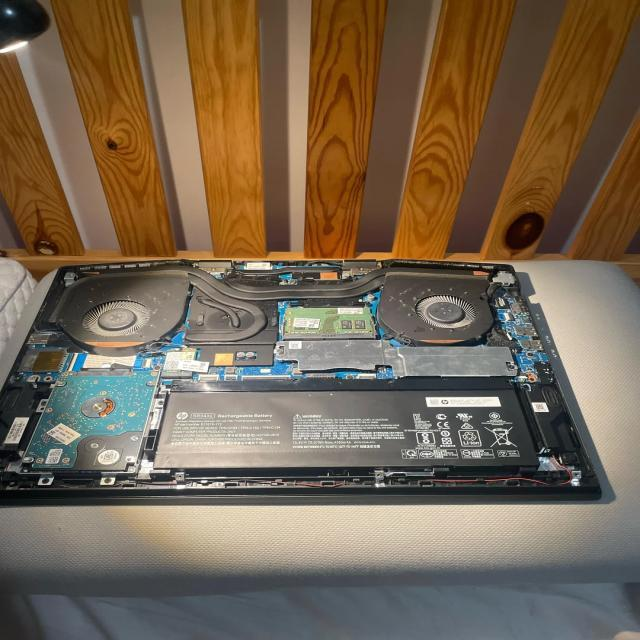NIC: (157, 377, 550, 472)
SSD: (29, 348, 72, 376)
Screw: (99, 477, 120, 486), (41, 477, 51, 485)
